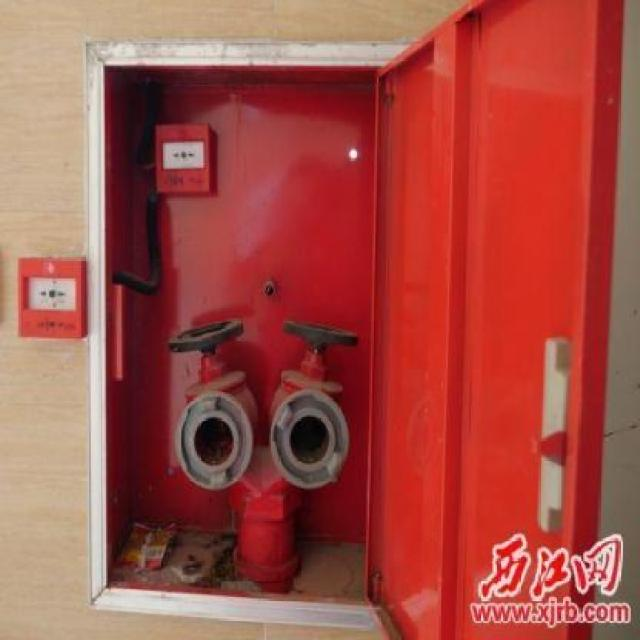firehydrant: (82, 0, 628, 640)
